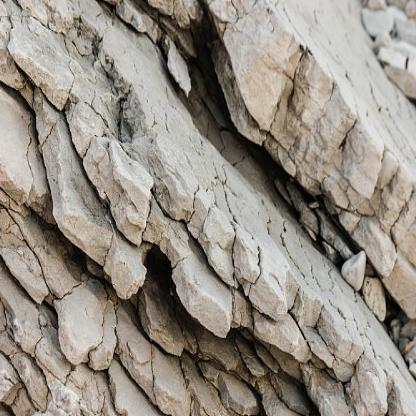Sedimentary_Limestone: (195, 0, 315, 135), (164, 229, 236, 339), (79, 128, 147, 241), (0, 21, 80, 108), (52, 279, 110, 360), (338, 95, 382, 196), (0, 105, 36, 210), (252, 245, 287, 320), (340, 242, 368, 288)
